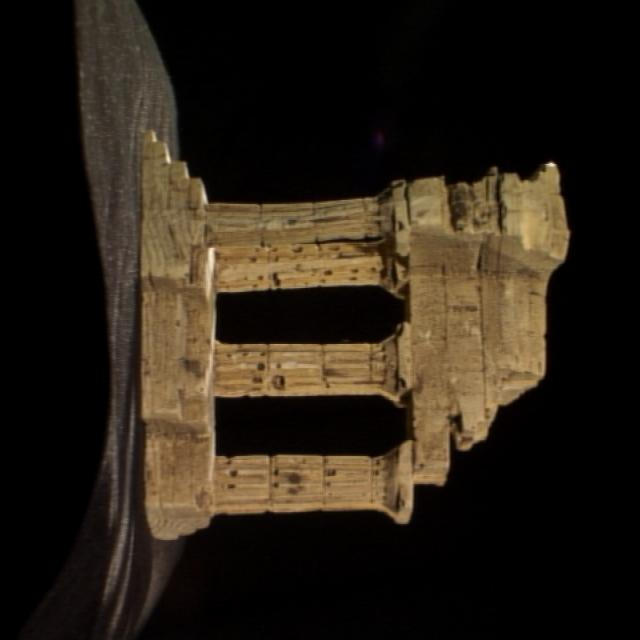Instance-Segmentation: (137, 131, 568, 539)
